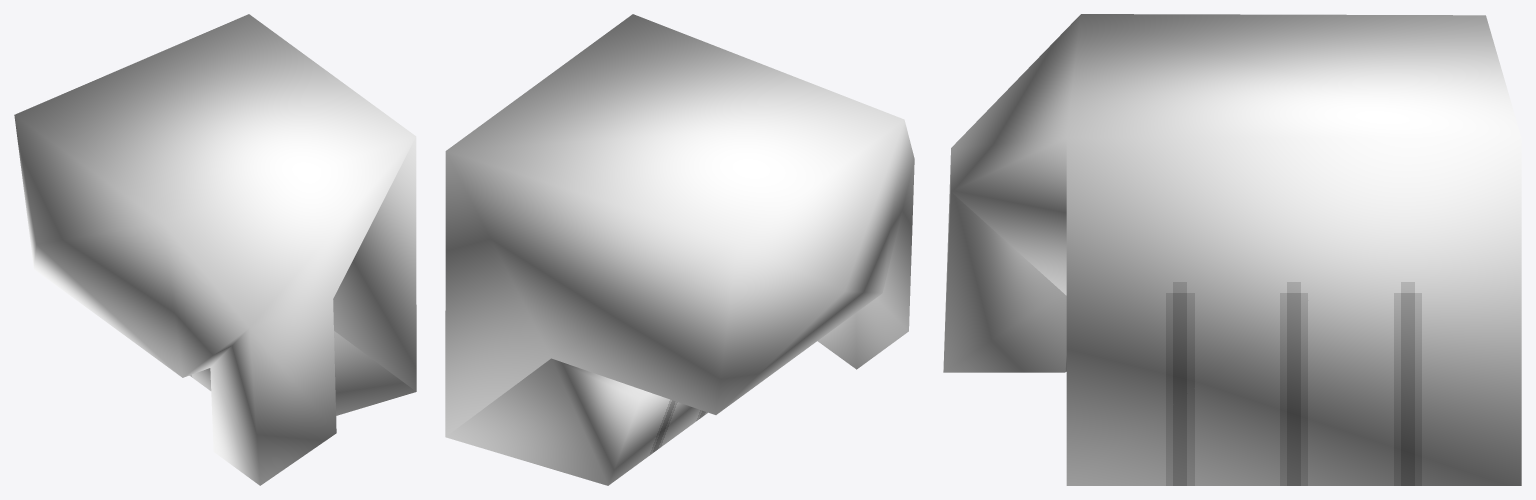
The model's file is LeftHand.obj.
3 renders of one model, left to right at view 1: azimuth 30°, elevation 25°; view 2: azimuth 150°, elevation 25°; view 3: azimuth 270°, elevation 25°, orthographic. The views are drawn at different scales.
Size of the model in its own units: 2.01 by 1.81 by 2.6.
1 material, 1 textured.
